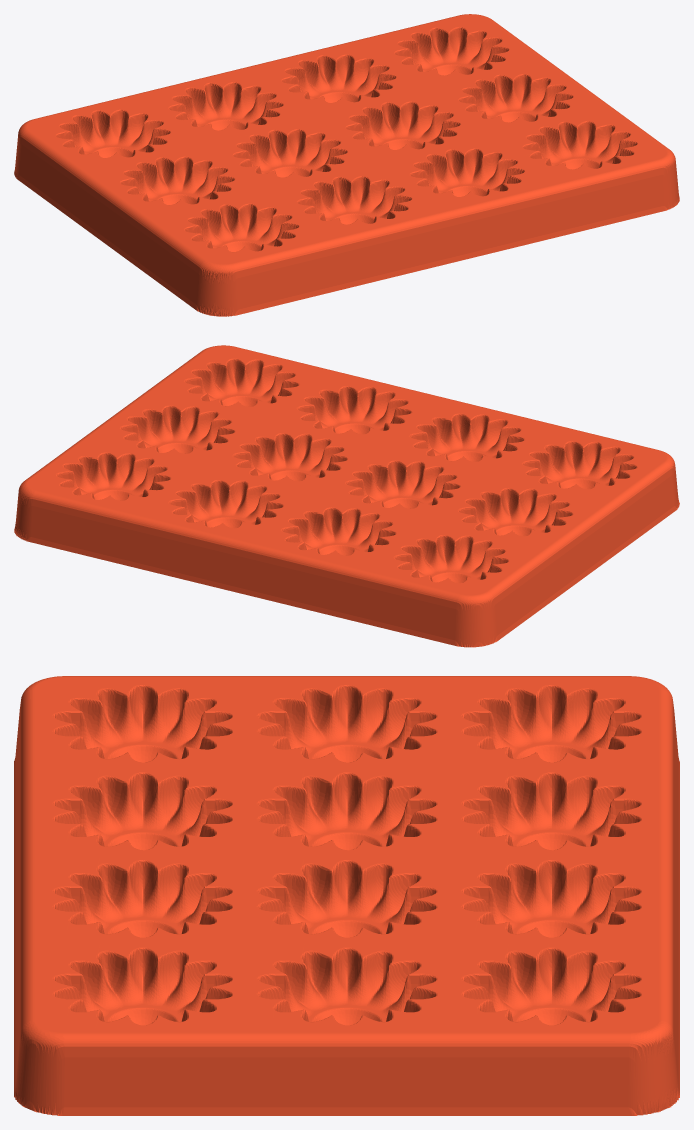
File: mold.glb
3 renders of one model, top to bottom at view 1: azimuth 30°, elevation 25°; view 2: azimuth 150°, elevation 25°; view 3: azimuth 270°, elevation 25°, orthographic. The views are drawn at different scales.
Visible parts, largest first — view 1: geometry_0; view 2: geometry_0; view 3: geometry_0.
Boxes of the visible parts, left/top/right/bottom form: geometry_0: left=14, top=14, right=679, bottom=316; geometry_0: left=14, top=345, right=679, bottom=647; geometry_0: left=14, top=676, right=679, bottom=1115.
Bounding box in the file's own units: 0.1558 × 0.0145 × 0.1176.
